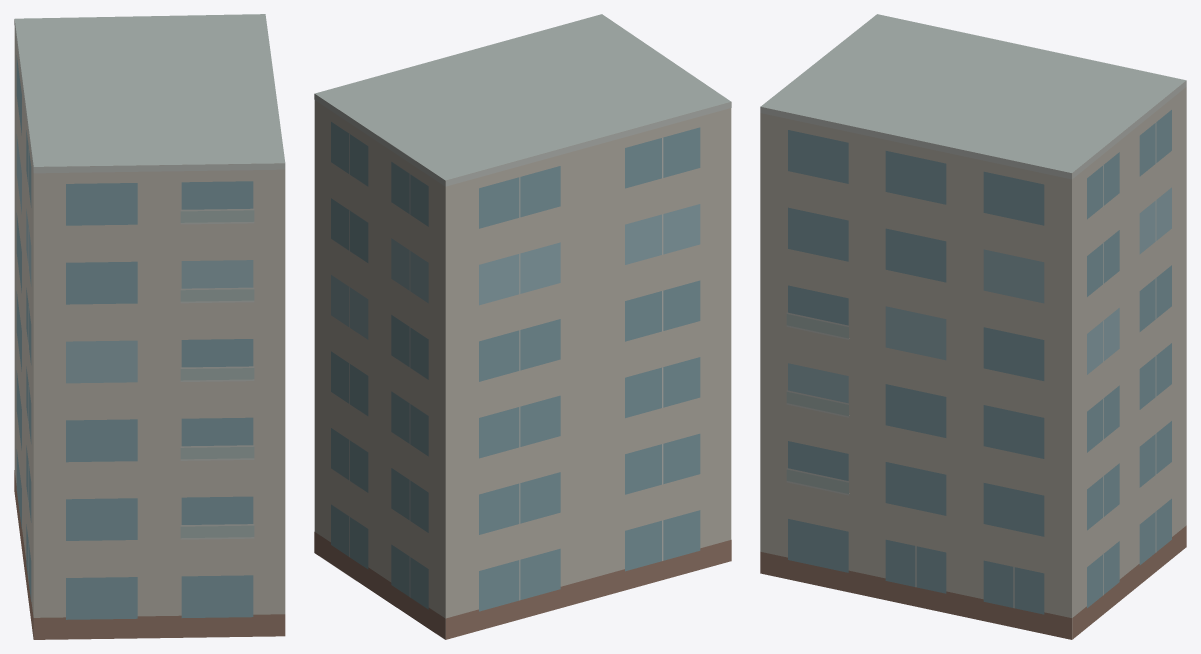
File: survey-upis-32725785.glb
3 views of the same model, side by side, from view 1: azimuth 30°, elevation 25°; view 2: azimuth 150°, elevation 25°; view 3: azimuth 270°, elevation 25° (orthographic). The views are drawn at different scales.
Visible parts, largest first — view 1: survey-upis-32725785.tmp; view 2: survey-upis-32725785.tmp; view 3: survey-upis-32725785.tmp.
Part boxes in pixels (x1=…): survey-upis-32725785.tmp: x1=14, y1=14, x2=285, y2=639; survey-upis-32725785.tmp: x1=314, y1=14, x2=731, y2=639; survey-upis-32725785.tmp: x1=760, y1=14, x2=1186, y2=639.
Size of the model in its own units: 13.21 by 18.05 by 14.95.
